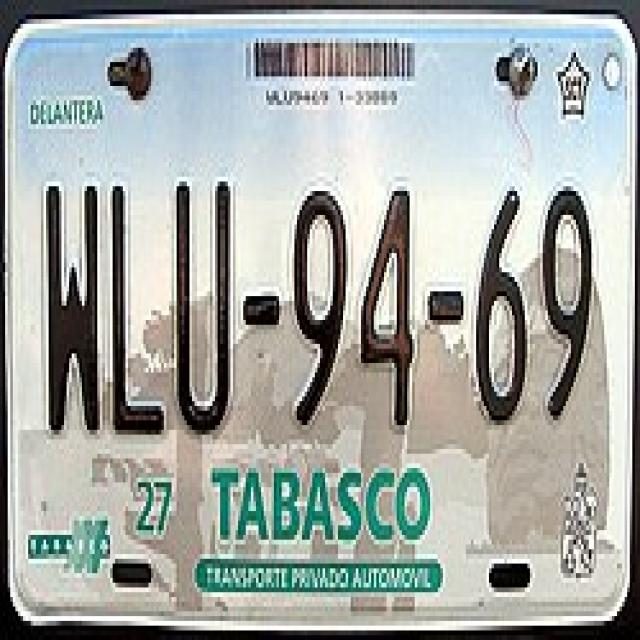placa: (12, 150, 616, 453)
